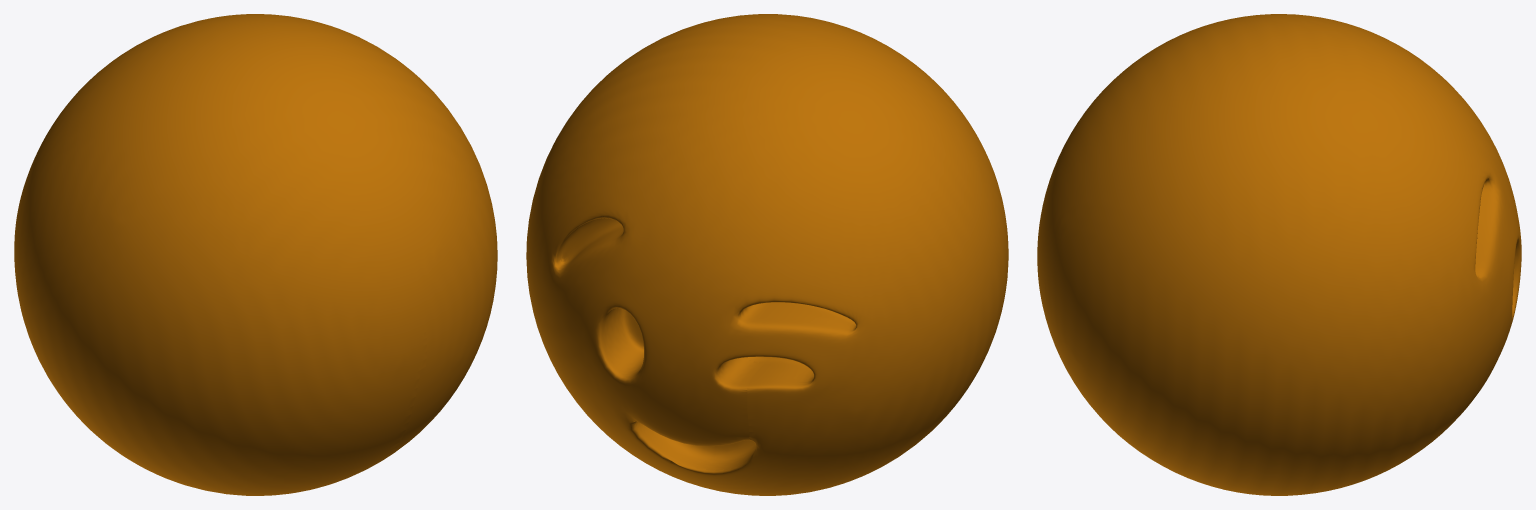
The model's file is wink 3DS.fbx.
The picture shows the model from 3 angles, left to right: view 1: azimuth 30°, elevation 25°; view 2: azimuth 150°, elevation 25°; view 3: azimuth 270°, elevation 25°; orthographic projection.
Parts seen in each view (by area): view 1: emoji_wink; view 2: emoji_wink; view 3: emoji_wink.
Part boxes in pixels (x1,y1,x2,y2): emoji_wink: (14,14,497,495); emoji_wink: (526,14,1008,495); emoji_wink: (1037,14,1521,495).
Size of the model in its own units: 48.79 by 48.72 by 48.99.
